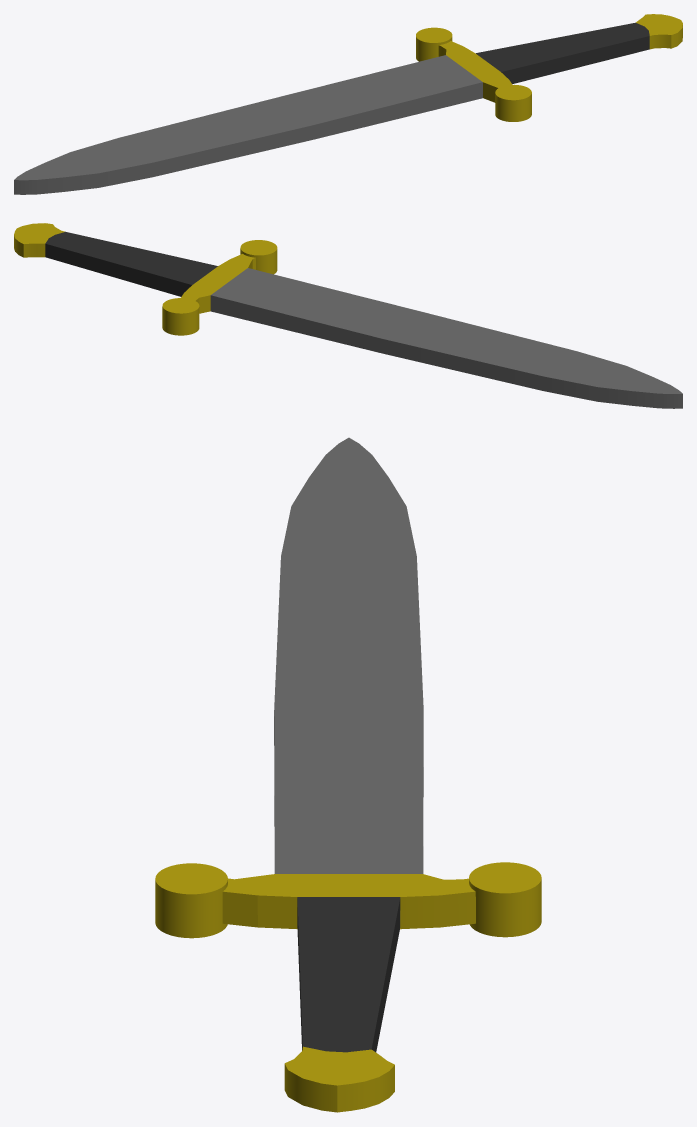
Rendered from sword 1.fbx.
The picture shows the model from 3 angles, top to bottom: view 1: azimuth 30°, elevation 25°; view 2: azimuth 150°, elevation 25°; view 3: azimuth 270°, elevation 25°; orthographic projection. The views are drawn at different scales.
Visible parts, largest first — view 1: Plane, Cylinder, Cylinder.001; view 2: Plane, Cylinder.001, Cylinder; view 3: Plane, Cylinder, Cylinder.001.
Boxes of the visible parts, <box> form: Plane: <box>14,14,682,194</box>; Cylinder: <box>495,84,531,121</box>; Cylinder.001: <box>416,27,452,61</box>; Plane: <box>14,223,682,408</box>; Cylinder.001: <box>162,298,199,335</box>; Cylinder: <box>240,240,277,274</box>; Plane: <box>222,437,475,1112</box>; Cylinder: <box>155,863,227,938</box>; Cylinder.001: <box>469,862,541,937</box>.
Bounding box in the file's own units: 422 × 13.3 × 106.
